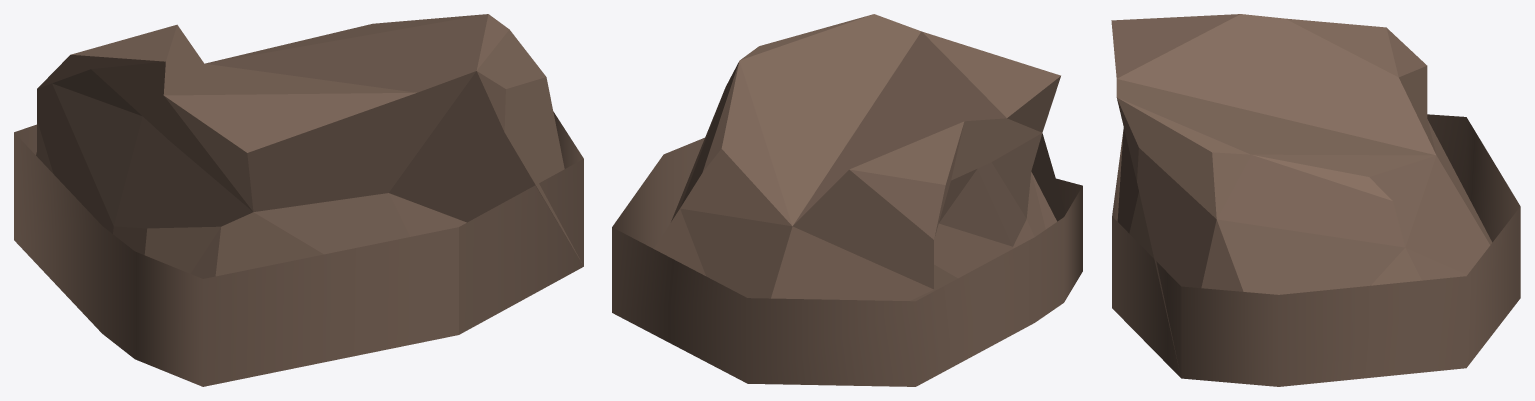
Rendered from IntimidatingRock.fbx.
3 renders of one model, left to right at view 1: azimuth 30°, elevation 25°; view 2: azimuth 150°, elevation 25°; view 3: azimuth 270°, elevation 25°, orthographic. The views are drawn at different scales.
Visible parts, largest first — view 1: Cube, InvisWalls; view 2: Cube, InvisWalls; view 3: Cube, InvisWalls.
Boxes of the visible parts, bbox=[...] form: Cube: bbox=[36, 14, 581, 278]; InvisWalls: bbox=[14, 111, 583, 386]; Cube: bbox=[654, 14, 1065, 301]; InvisWalls: bbox=[612, 137, 1082, 386]; Cube: bbox=[1111, 14, 1492, 367]; InvisWalls: bbox=[1112, 114, 1520, 386].
Bounding box in the file's own units: 1297 × 736 × 1170.
